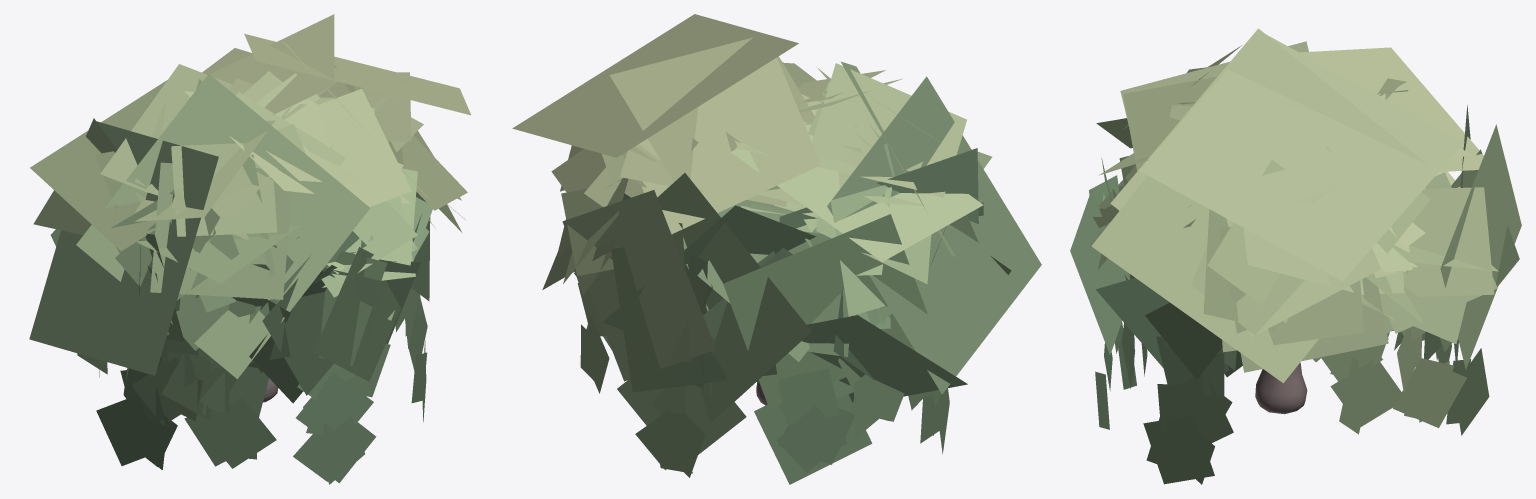
The model's file is willow_v4.glb.
The picture shows the model from 3 angles, left to right: view 1: azimuth 30°, elevation 25°; view 2: azimuth 150°, elevation 25°; view 3: azimuth 270°, elevation 25°; orthographic projection. The views are drawn at different scales.
Visible parts, largest first — view 1: near, far; view 2: far, near; view 3: near, far.
Part boxes in pixels (x1,y1,x2,y2): near: (33,65,467,484); far: (29,14,470,387); far: (512,14,1041,484); near: (542,61,1011,477); near: (1070,45,1519,484); far: (1091,28,1521,383).
Bounding box in the file's own units: 14.06 × 11.98 × 11.66.
